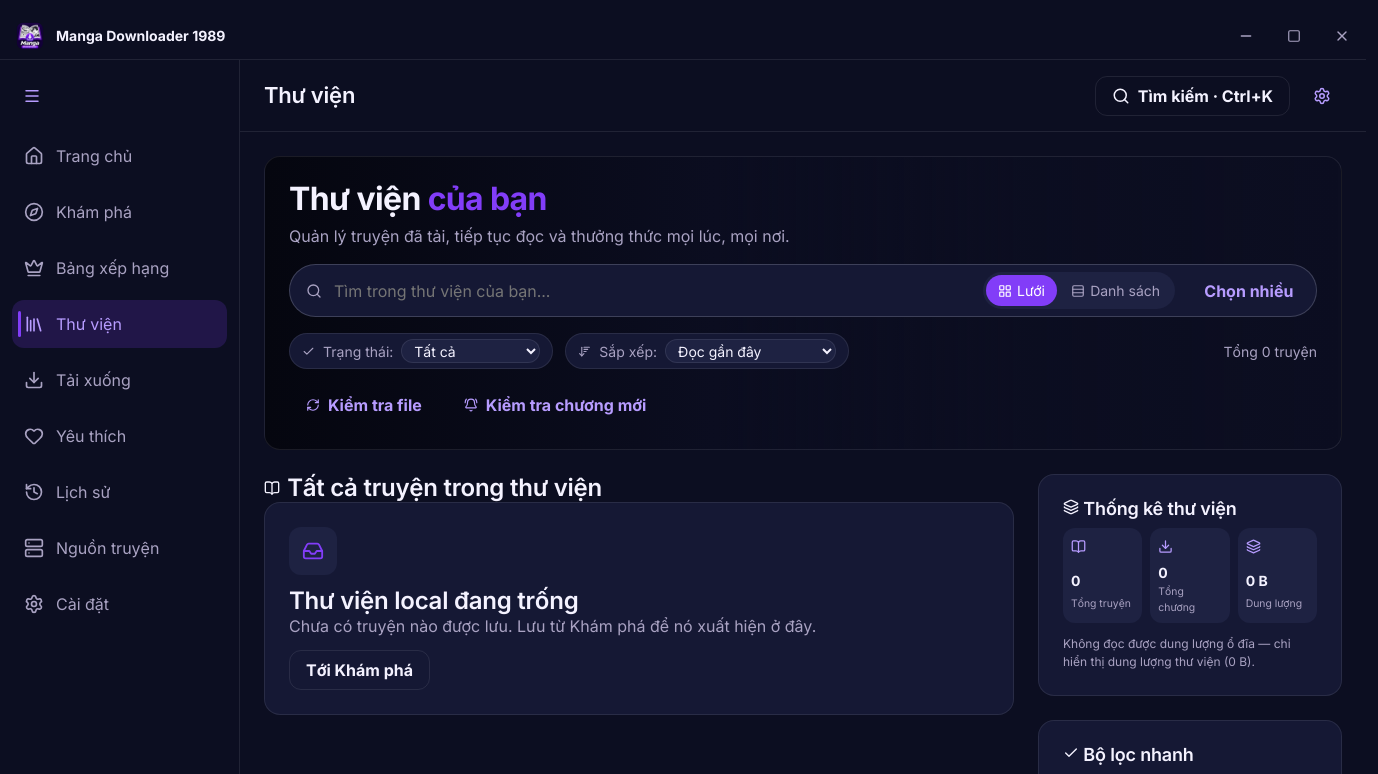
Scenario: T04-09/T04-10 local library states › distinguishes truthful empty from DB error
Expected: the heading "Thư viện local đang trống" is shown, [289, 586, 578, 615]
# Navigate away and back to trigger a fresh fetch against the "failed" DB.
Click the link "Trang chủ" at [78, 156], box [24, 146, 132, 166]
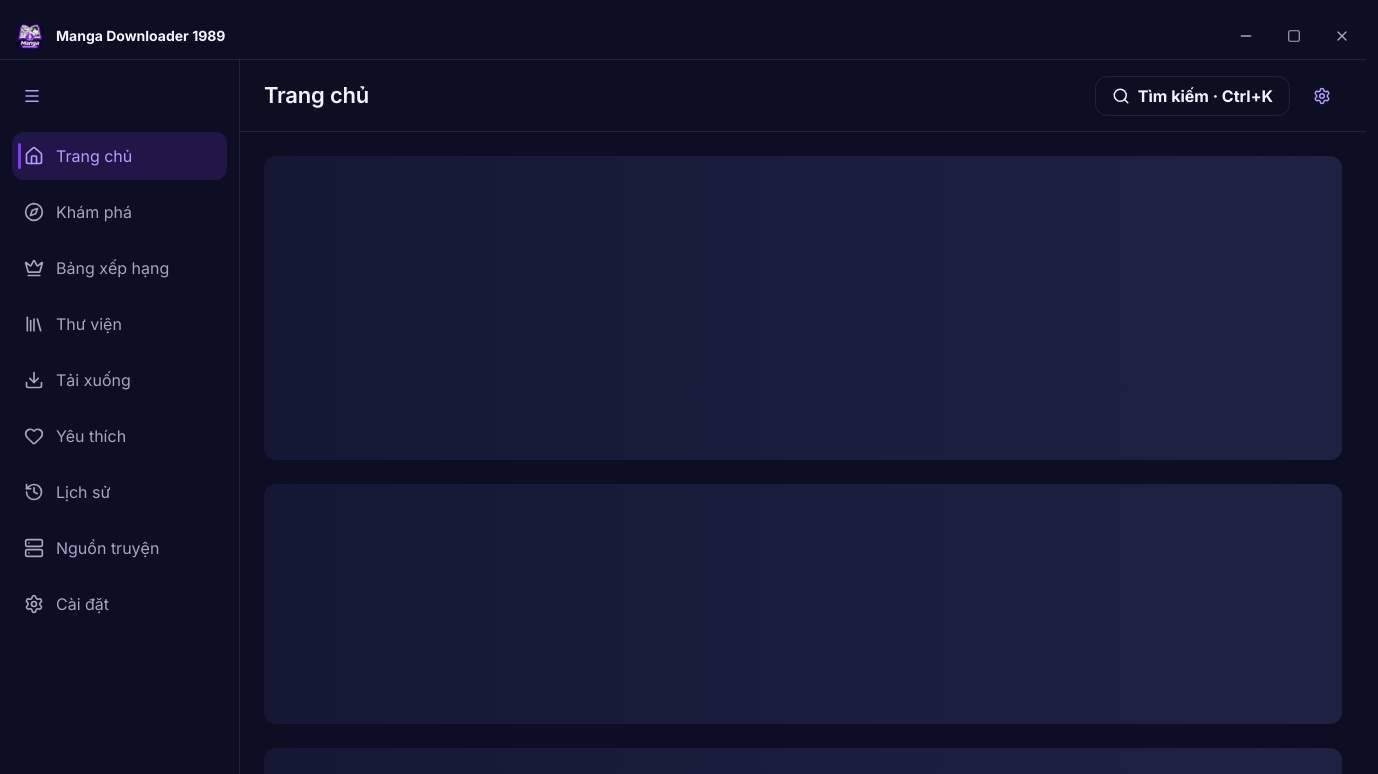
Expected: the link "Khám phá" is shown, [24, 202, 132, 222]
Click the link "Thư viện" at [73, 324], box [24, 314, 122, 334]
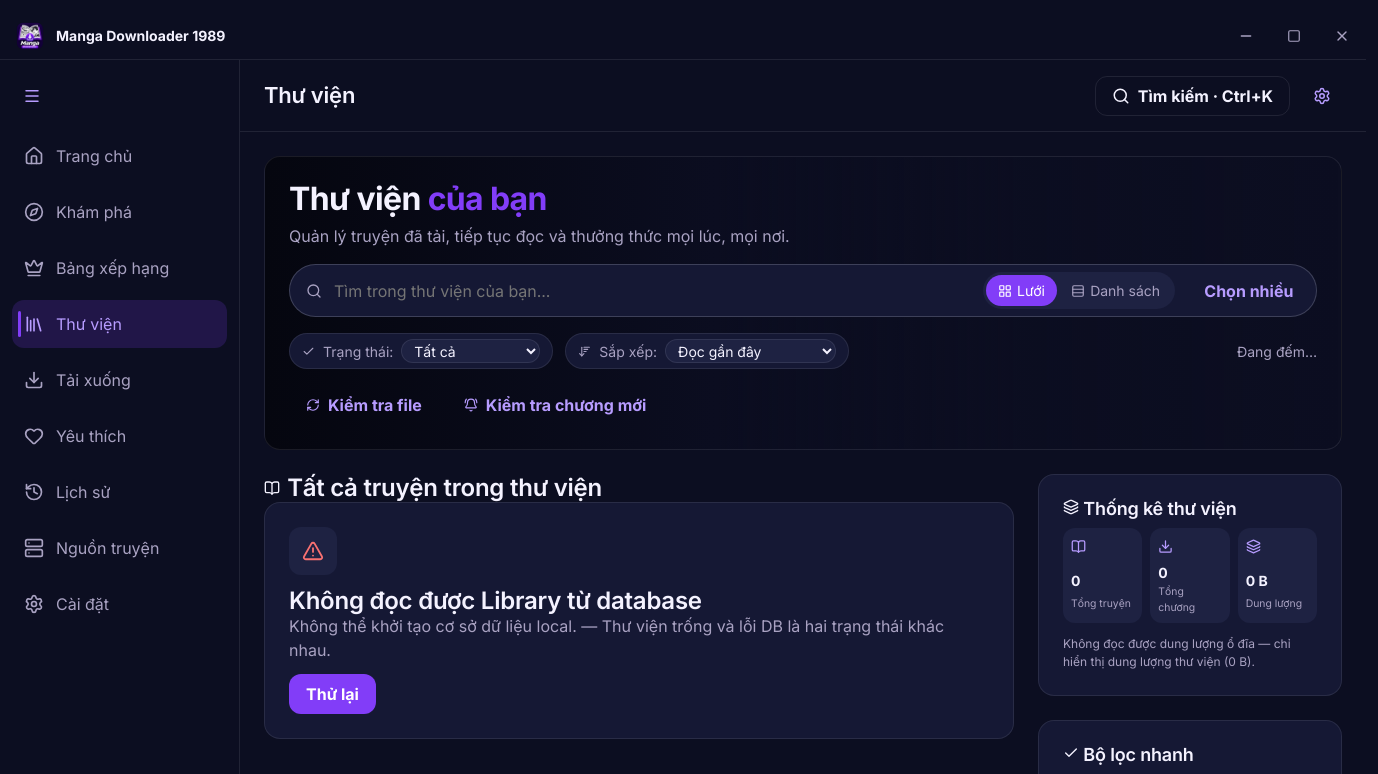
Now the heading "Không đọc được Library từ database" is shown, box [289, 586, 702, 615]
Now the text "Không thể khởi tạo cơ sở dữ liệu local." is shown, box [289, 616, 944, 660]
